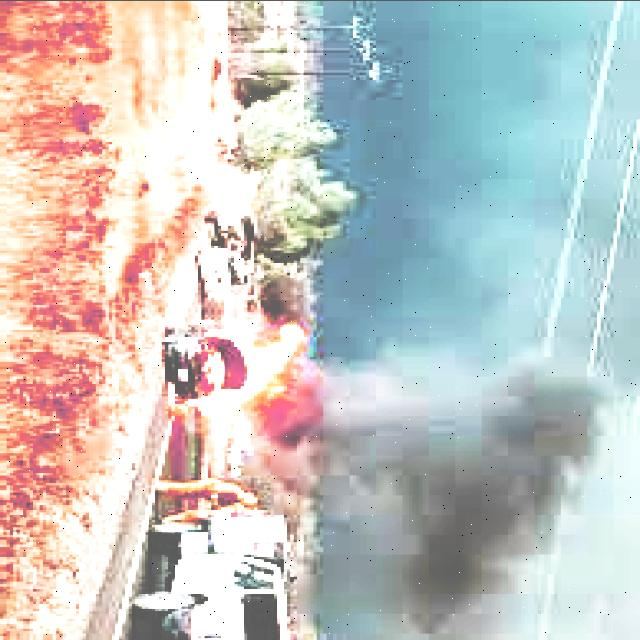api: (160, 305, 308, 433)
